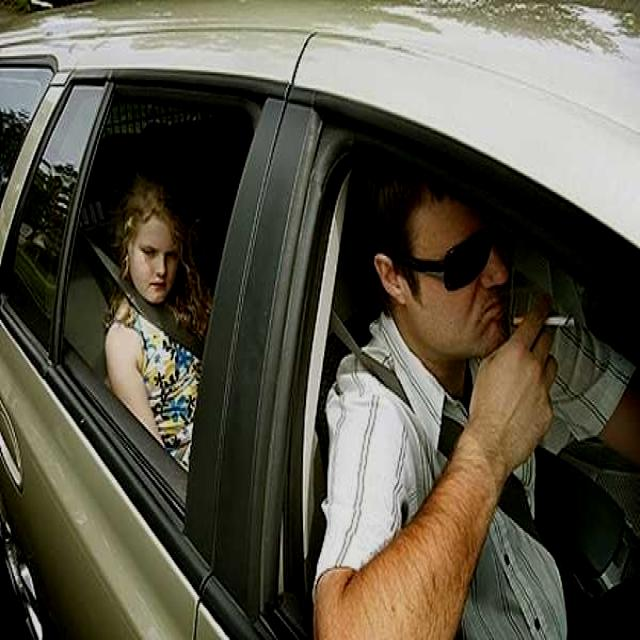Smooking: (509, 304, 581, 340)
